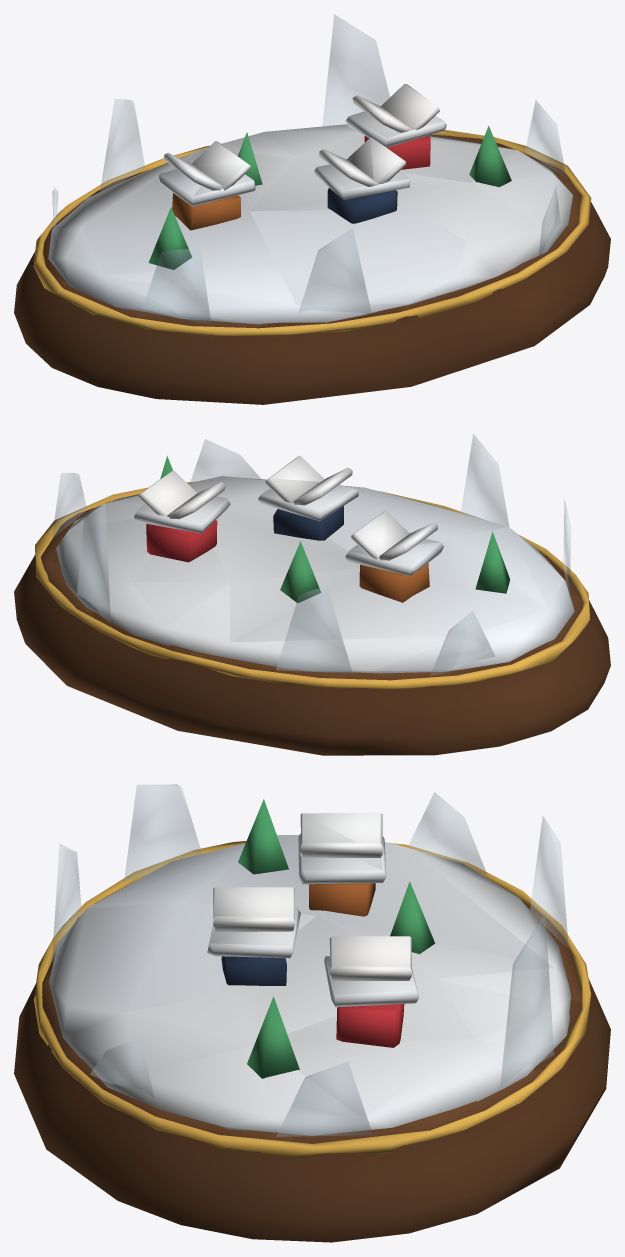
The model's file is frost_globe_village_lod2.glb.
3 views of the same model, one above another, from view 1: azimuth 30°, elevation 25°; view 2: azimuth 150°, elevation 25°; view 3: azimuth 270°, elevation 25° (orthographic). The views are drawn at different scales.
Visible parts, largest first — view 1: frost_globe_village.001; view 2: frost_globe_village.001; view 3: frost_globe_village.001.
Boxes of the visible parts, <box> form: frost_globe_village.001: <box>14,14,610,404</box>; frost_globe_village.001: <box>14,434,610,755</box>; frost_globe_village.001: <box>14,784,610,1242</box>.
Size of the model in its own units: 9.25 by 3 by 6.9.
